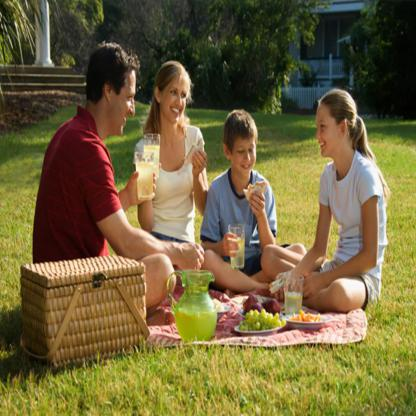face: (113, 71, 138, 134), (165, 75, 187, 125), (317, 105, 338, 156), (233, 134, 257, 177)
